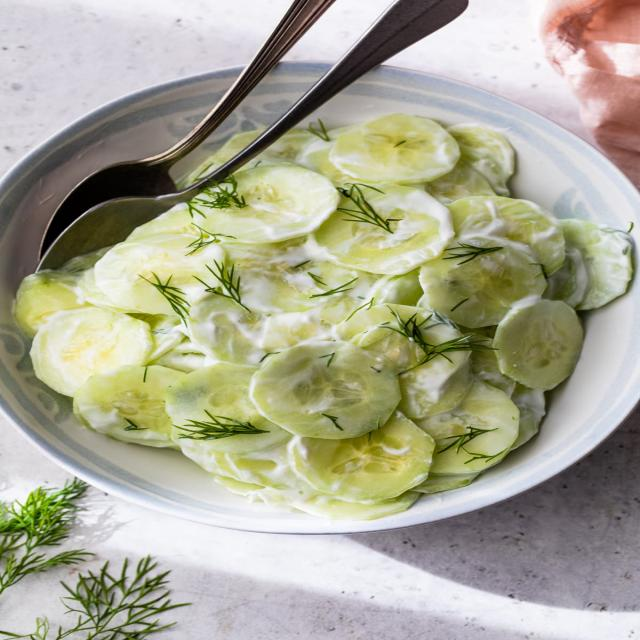Pickle: (420, 196, 564, 328), (249, 340, 401, 440), (287, 411, 435, 504), (309, 182, 454, 275), (189, 165, 339, 244), (223, 238, 379, 312), (165, 362, 291, 452), (30, 306, 154, 396), (94, 234, 225, 315), (416, 380, 519, 474), (73, 365, 186, 448), (330, 114, 461, 184), (544, 219, 634, 310), (493, 300, 583, 390), (180, 440, 313, 490), (188, 295, 266, 365), (13, 270, 90, 338), (446, 122, 516, 196), (261, 308, 332, 351)
